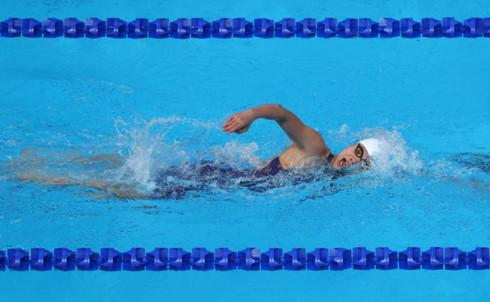human: (220, 102, 384, 194)
